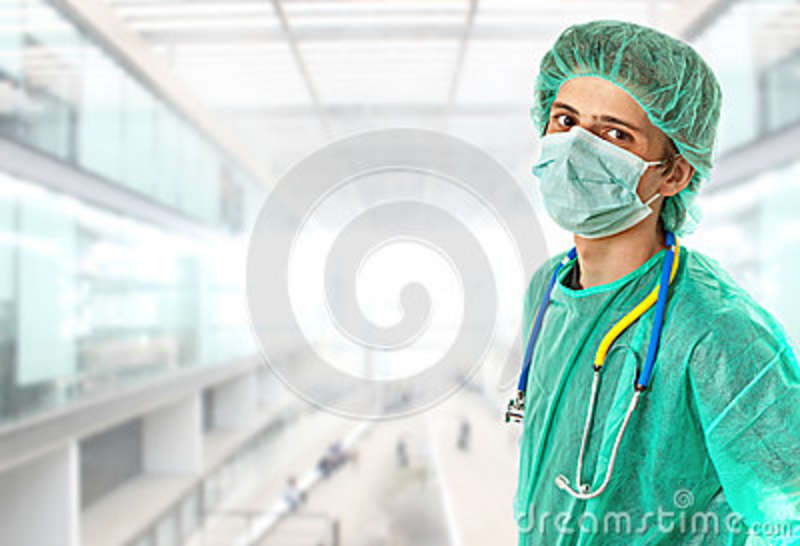mask: (536, 136, 652, 240)
